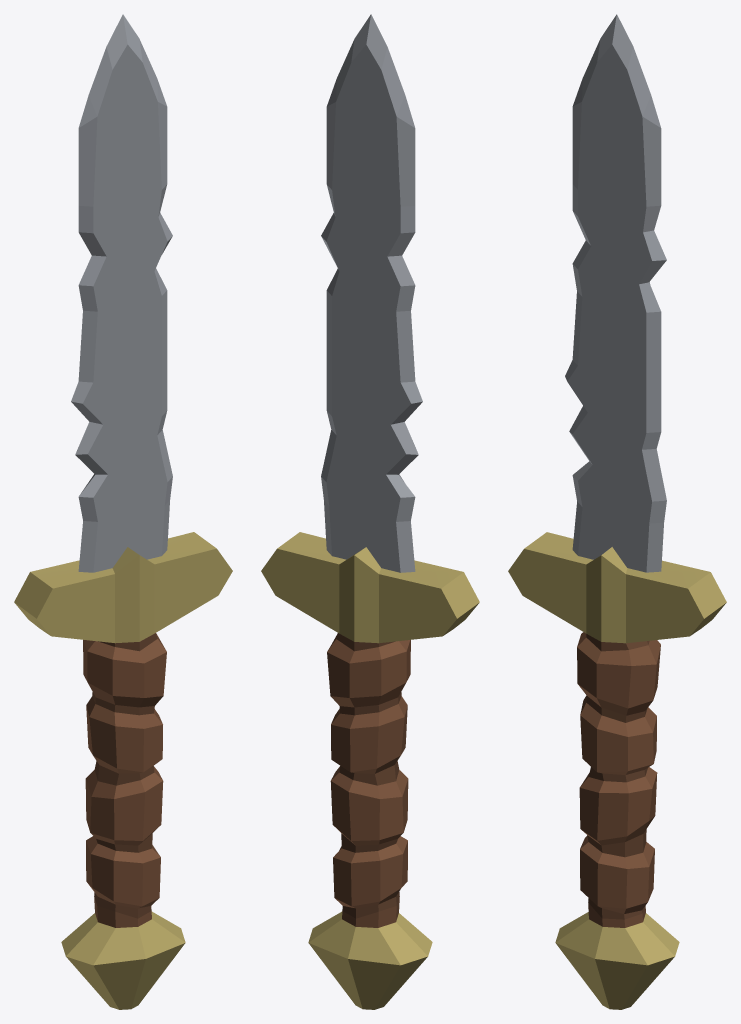
File: armory-assassin-1.glb
3 views of the same model, side by side, from view 1: azimuth 30°, elevation 25°; view 2: azimuth 150°, elevation 25°; view 3: azimuth 330°, elevation 25° (orthographic).
Visible parts, largest first — view 1: Dagger_2_Cylinder.011; view 2: Dagger_2_Cylinder.011; view 3: Dagger_2_Cylinder.011.
Part boxes in pixels (<box>): Dagger_2_Cylinder.011: <box>14,14,232,1009</box>; Dagger_2_Cylinder.011: <box>261,14,479,1009</box>; Dagger_2_Cylinder.011: <box>508,14,726,1009</box>.
Size of the model in its own units: 0.644 by 3.11 by 0.2564.
